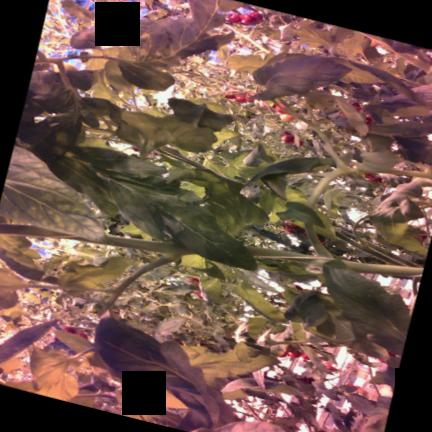MainStem: (245, 244, 422, 278), (0, 223, 194, 252), (156, 145, 205, 167)
tomato: (187, 276, 202, 297), (283, 220, 303, 233), (285, 345, 301, 357), (240, 12, 253, 24), (226, 12, 240, 22), (279, 112, 294, 121), (187, 276, 199, 285), (250, 11, 261, 20), (61, 325, 75, 332), (281, 134, 293, 142), (273, 104, 283, 112), (234, 94, 245, 101), (76, 331, 87, 337), (299, 352, 308, 358), (224, 93, 234, 98), (245, 97, 253, 101)
